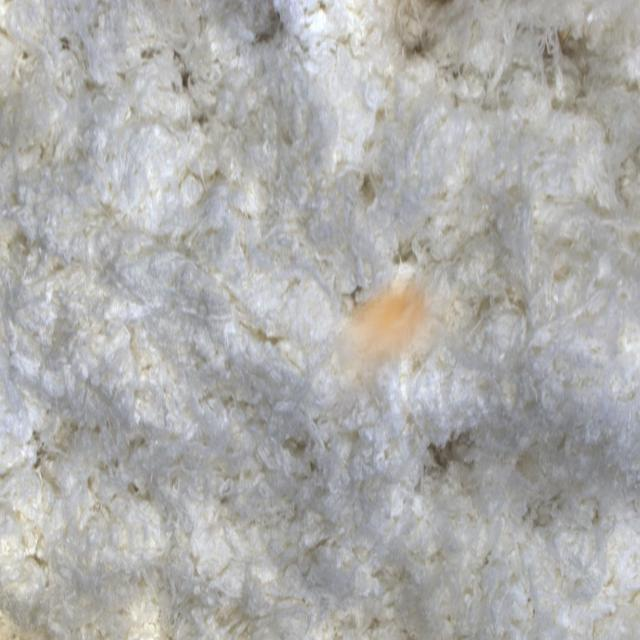dust: (325, 272, 458, 432)
